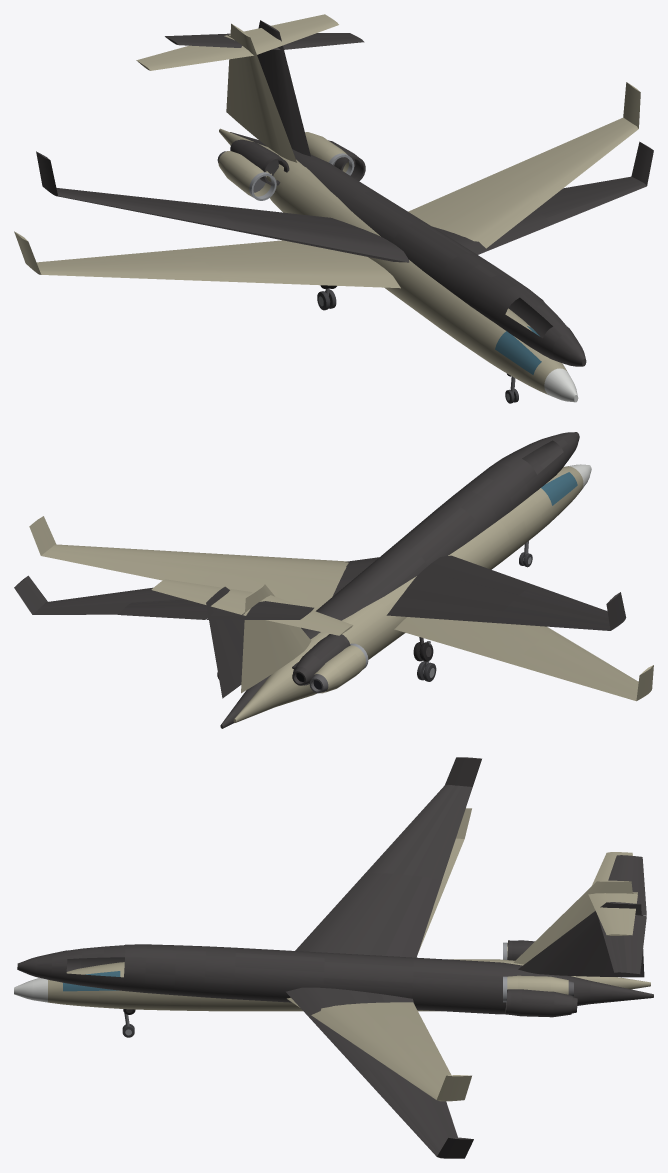
File: aewc__g500_shavit.glb
The picture shows the model from 3 angles, top to bottom: view 1: azimuth 30°, elevation 25°; view 2: azimuth 150°, elevation 25°; view 3: azimuth 270°, elevation 25°; orthographic projection. The views are drawn at different scales.
Parts seen in each view (by area): view 1: Fuselage_Mesh, Wreck; view 2: Fuselage_Mesh, Wreck; view 3: Wreck, Fuselage_Mesh.
Part boxes in pixels (bbox=[...]): Fuselage_Mesh: bbox=[14, 14, 640, 403]; Wreck: bbox=[36, 20, 653, 376]; Fuselage_Mesh: bbox=[29, 464, 653, 722]; Wreck: bbox=[14, 432, 626, 728]; Wreck: bbox=[17, 757, 653, 1158]; Fuselage_Mesh: bbox=[14, 808, 650, 1101].
Size of what is drawn, in the model's own units: 29.98 by 8.02 by 29.54.
